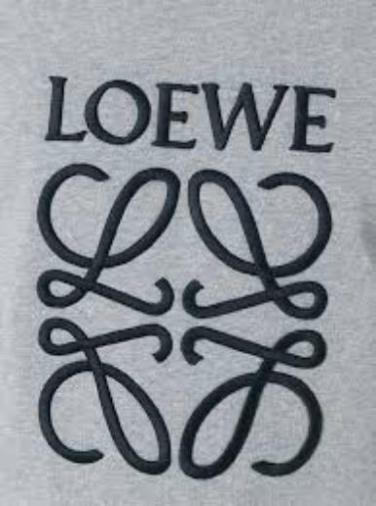LOEWE: (33, 57, 364, 484)
